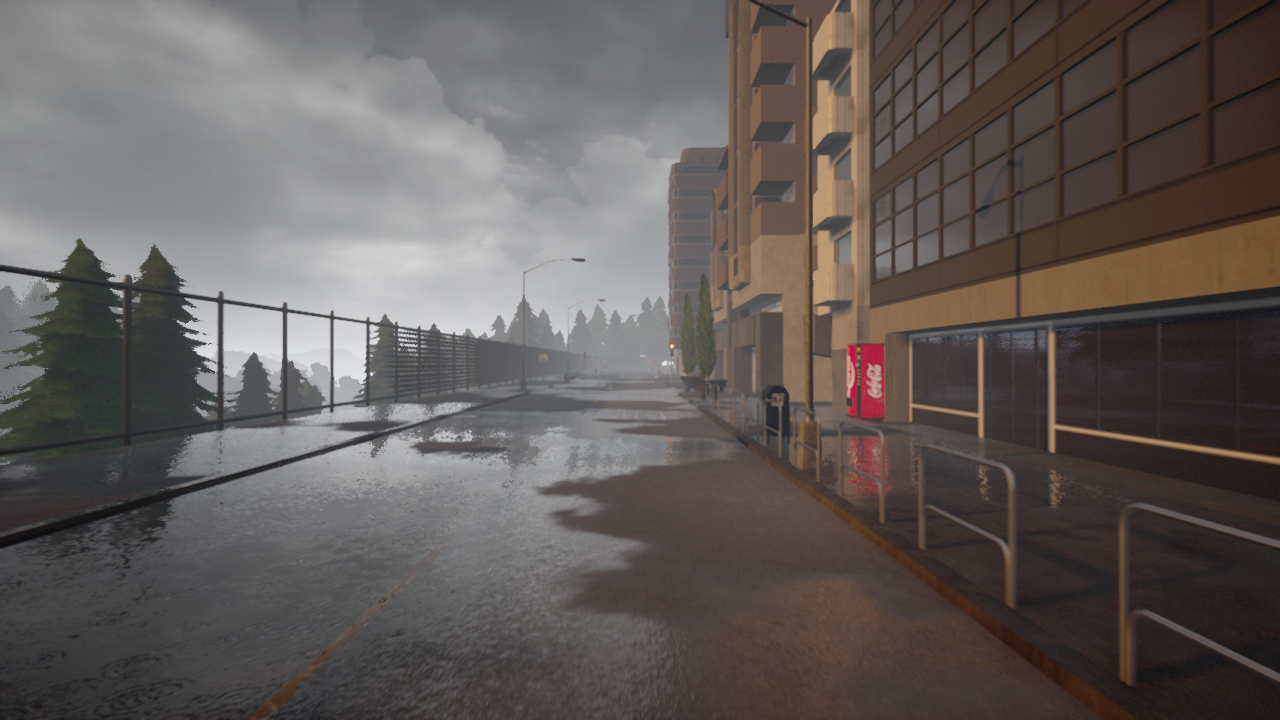red: (669, 342, 675, 357)
